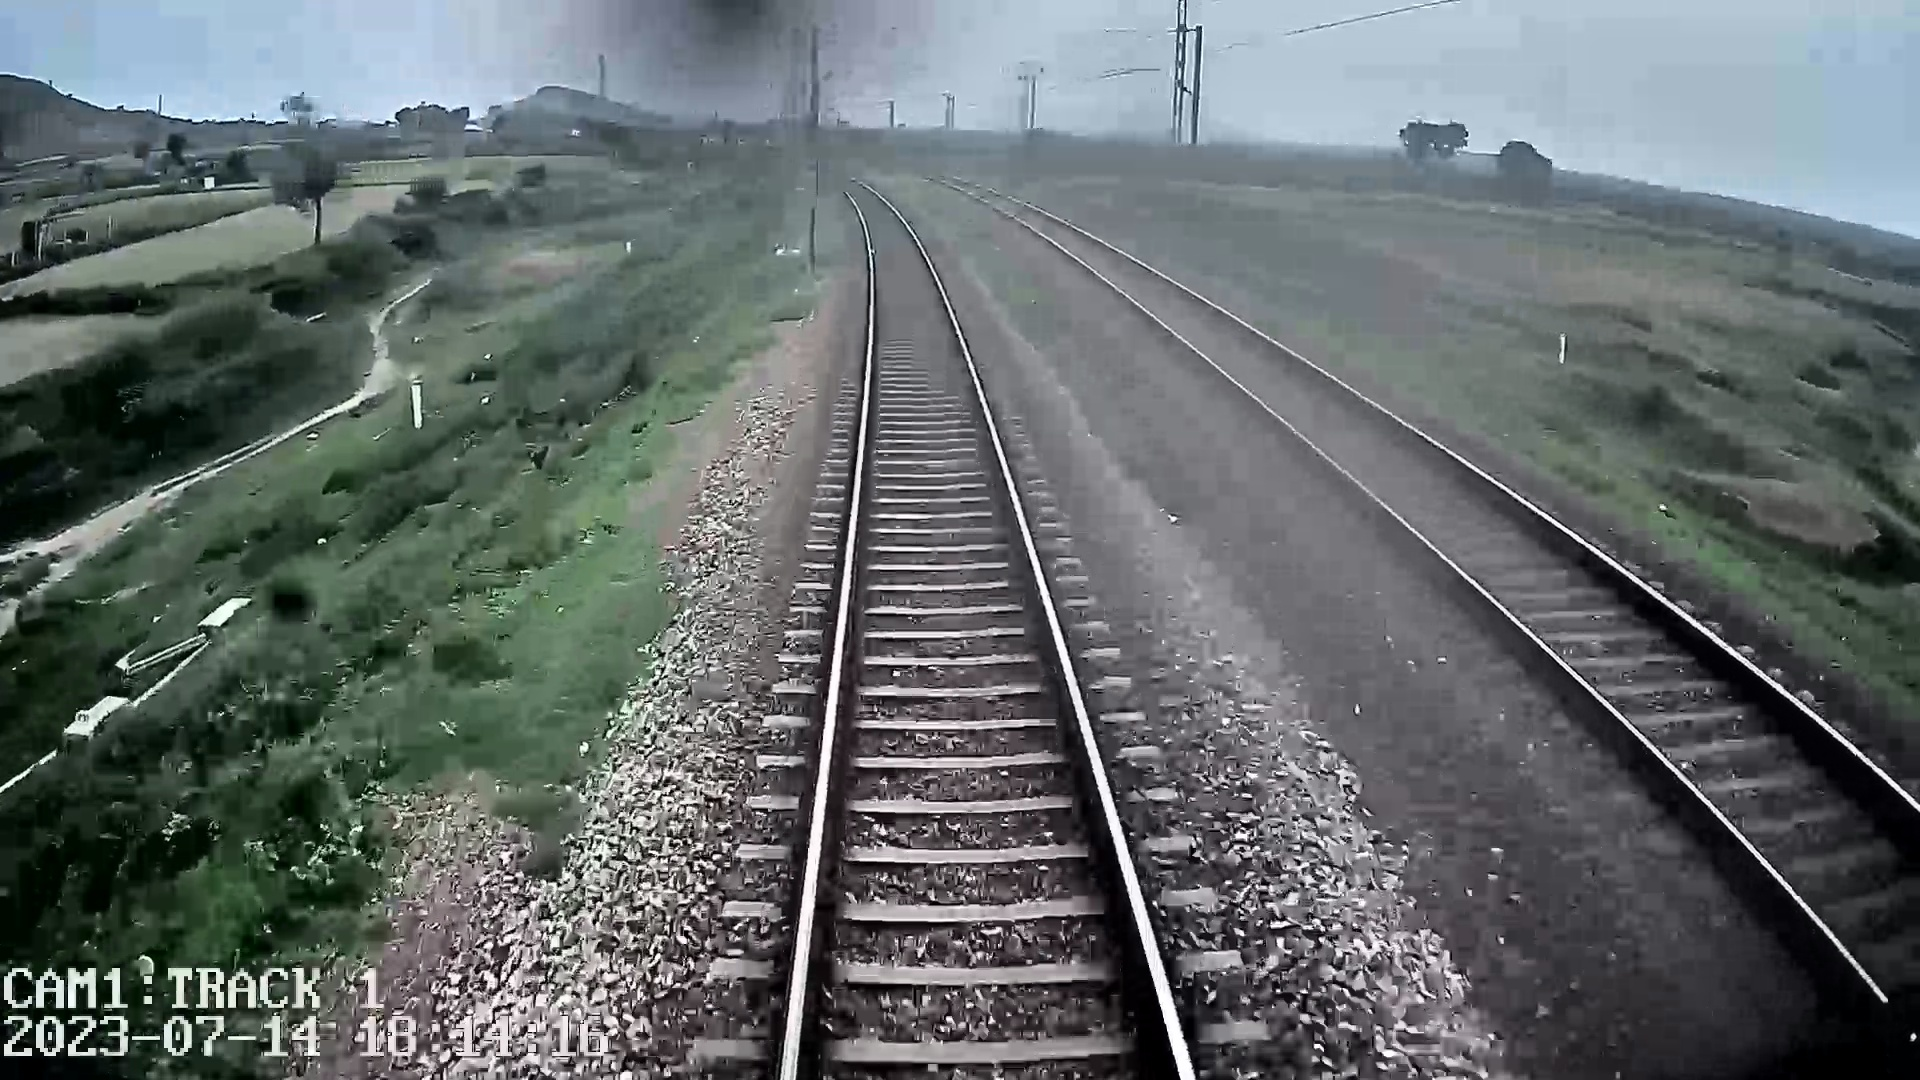track1: (790, 185, 1188, 1072)
track2: (1001, 202, 1916, 992)
